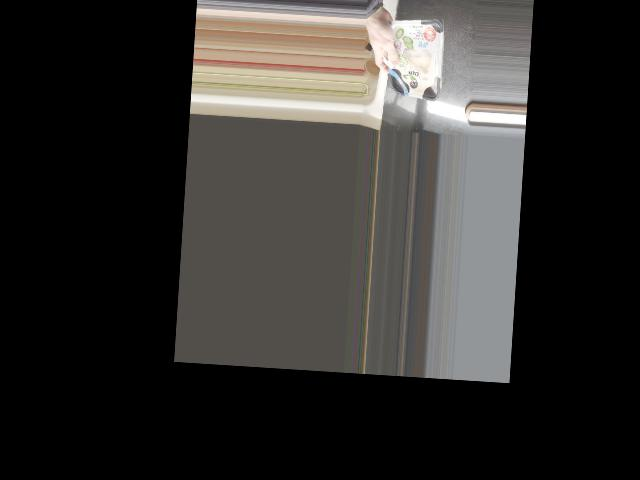cheese: (380, 16, 444, 99)
